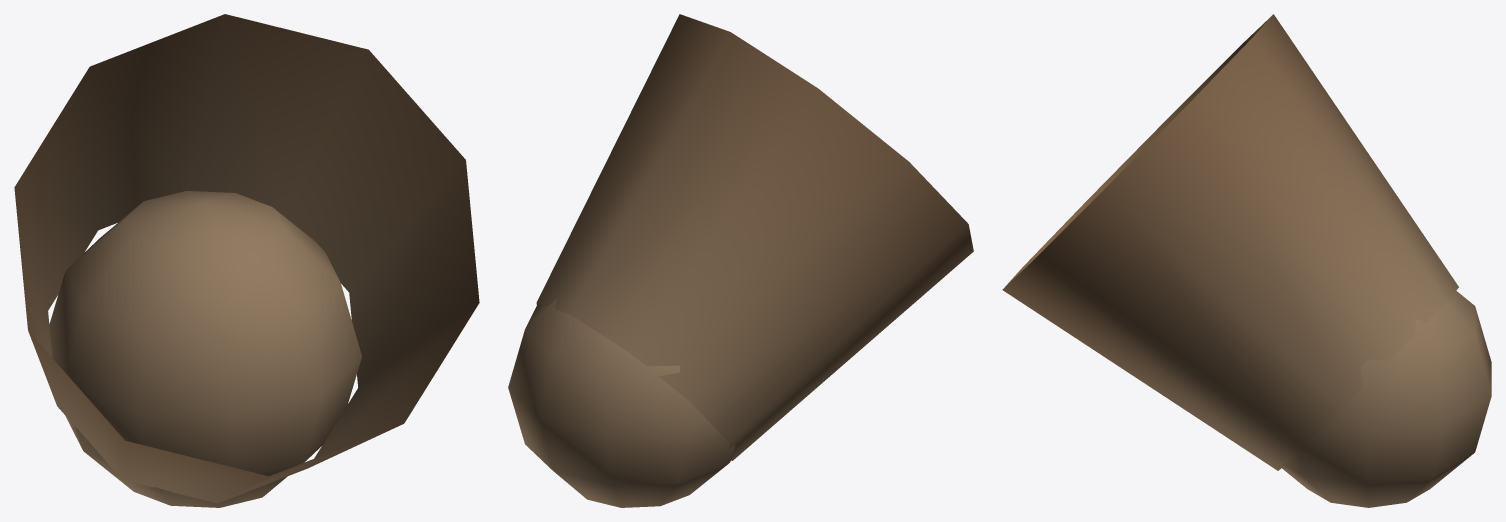
File: Nakiusagi_Limb2U.fbx
3 renders of one model, left to right at view 1: azimuth 30°, elevation 25°; view 2: azimuth 150°, elevation 25°; view 3: azimuth 270°, elevation 25°, orthographic. The views are drawn at different scales.
Parts seen in each view (by area): view 1: Nakiusagi_Limb2U; view 2: Nakiusagi_Limb2U; view 3: Nakiusagi_Limb2U.
Boxes of the visible parts, x1=… form: Nakiusagi_Limb2U: x1=14, y1=14, x2=479, y2=507; Nakiusagi_Limb2U: x1=508, y1=14, x2=973, y2=507; Nakiusagi_Limb2U: x1=1002, y1=14, x2=1491, y2=507.
Size of the model in its own units: 0.8818 by 1.05 by 1.06.
